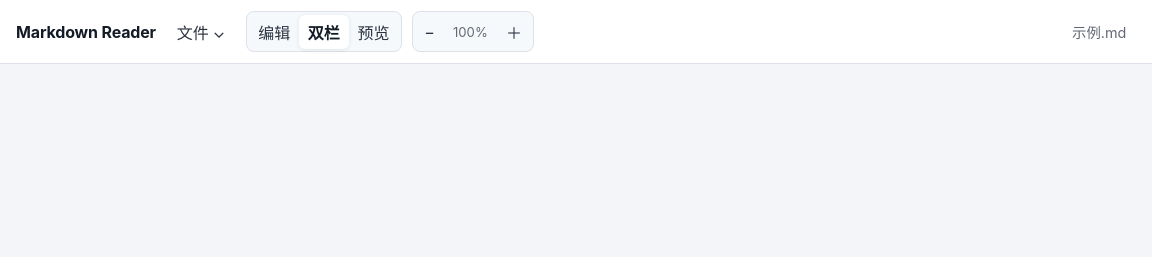
Scenario: Toolbar › 把文件操作折叠在菜单中，并在执行后关闭菜单
Expected: the button "新建" is not shown
Click the button "文件 ⌄".
click(201, 32)  # box [166,12,236,51]
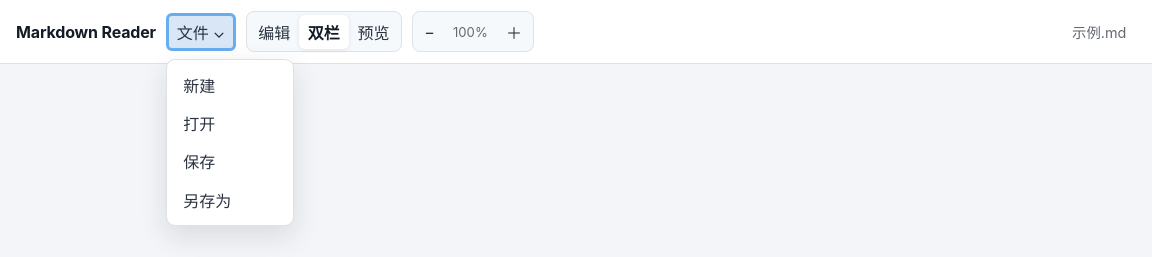
Click the button "新建".
click(230, 85)  # box [173,66,288,104]
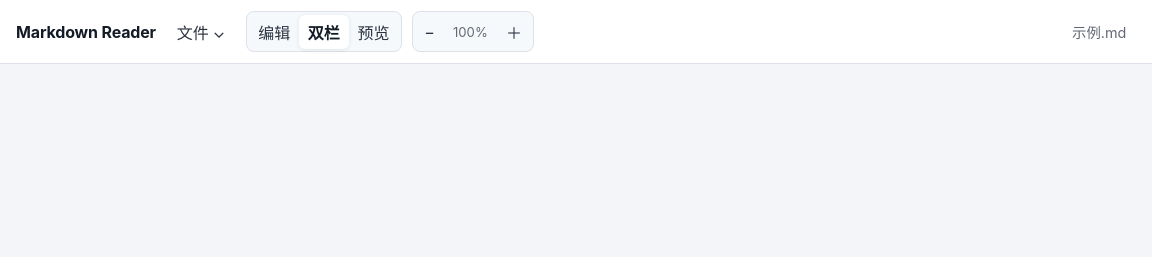
Expected: the button "新建" is gone
